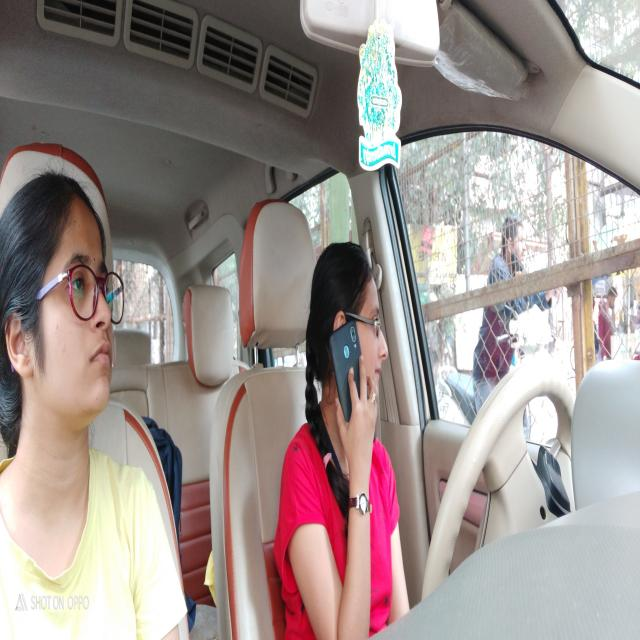mobile: (330, 326, 365, 426)
person: (2, 184, 118, 419), (310, 235, 390, 420)
